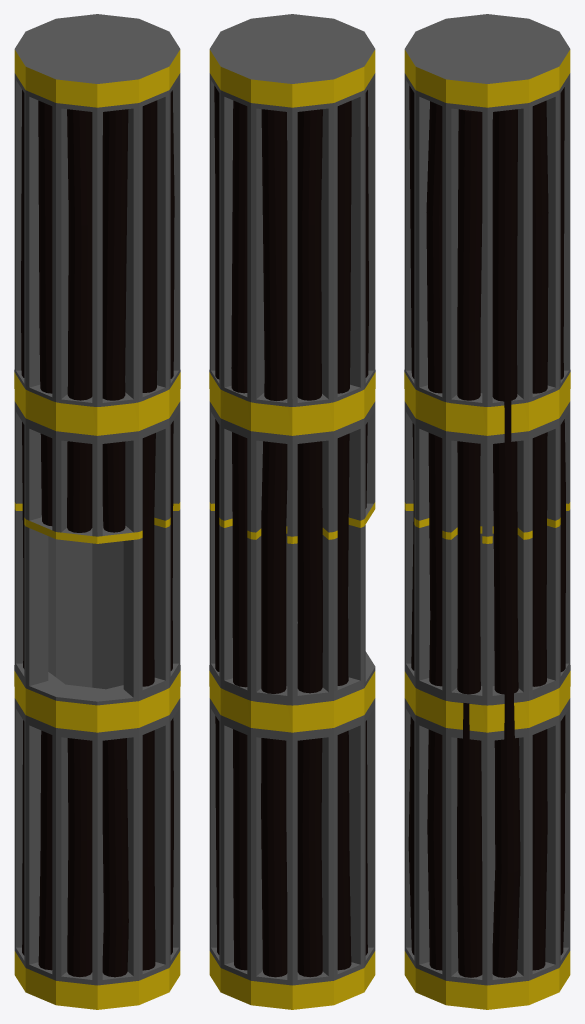
The model's file is SM_SM_Tower_01.fbx.
3 renders of one model, left to right at view 1: azimuth 30°, elevation 25°; view 2: azimuth 150°, elevation 25°; view 3: azimuth 270°, elevation 25°, orthographic.
Parts seen in each view (by area): view 1: SM_Tower_01; view 2: SM_Tower_01; view 3: SM_Tower_01.
Part boxes in pixels (x1,y1,x2,y2): SM_Tower_01: (14,14,180,1009); SM_Tower_01: (209,14,375,1009); SM_Tower_01: (404,14,570,1009).
Size of the model in its own units: 200 by 1231 by 200.
